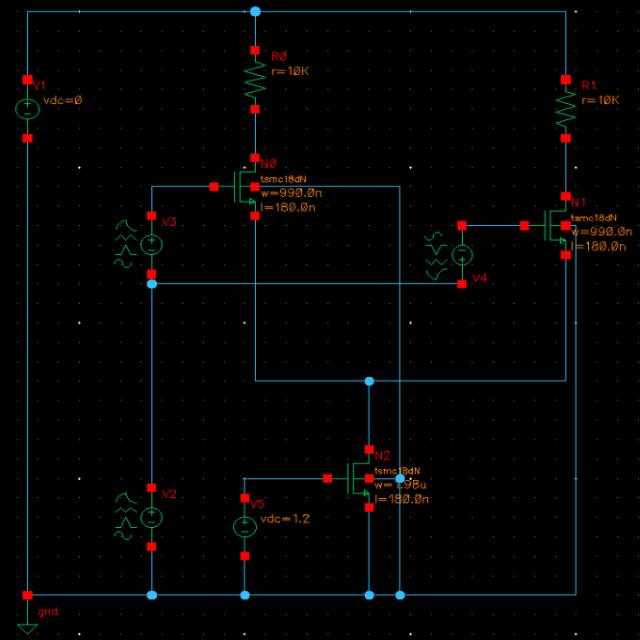gnd: (10, 589, 44, 638)
nmos: (318, 445, 381, 519), (210, 150, 268, 222), (518, 192, 576, 260)
res: (233, 44, 275, 129), (545, 76, 585, 150)
vdc: (7, 68, 92, 150), (224, 494, 312, 564), (415, 222, 490, 292), (112, 484, 184, 556), (108, 209, 178, 275)
